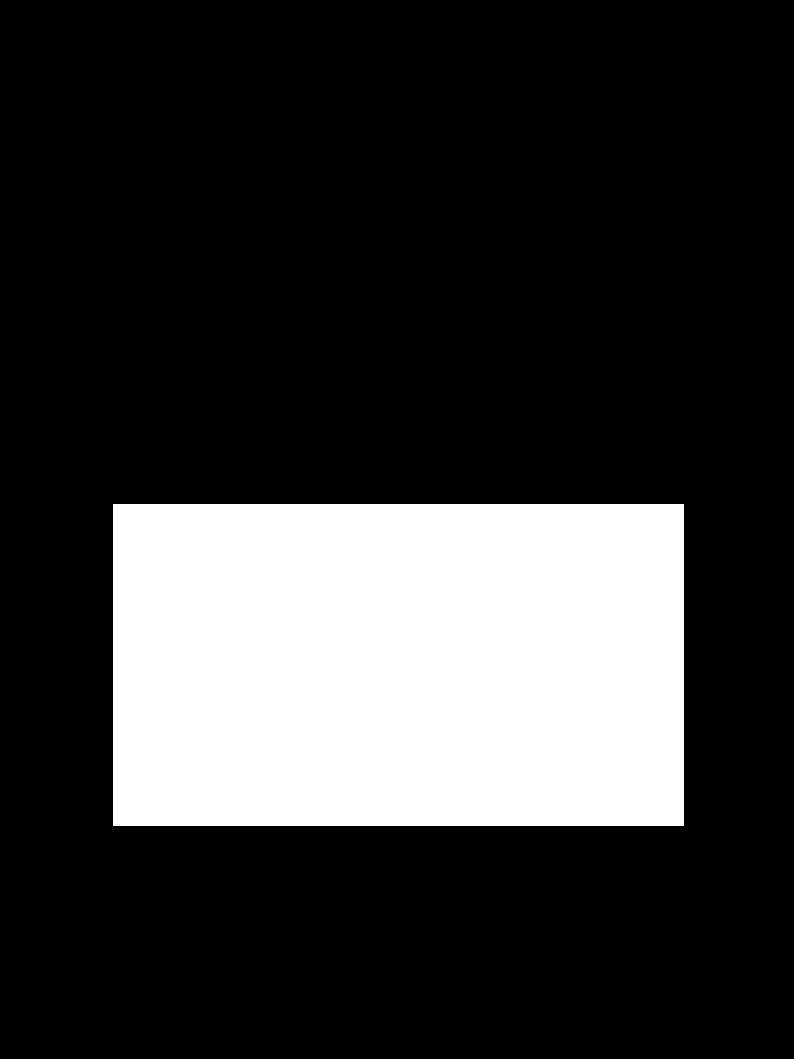table: (113, 504, 683, 825)
